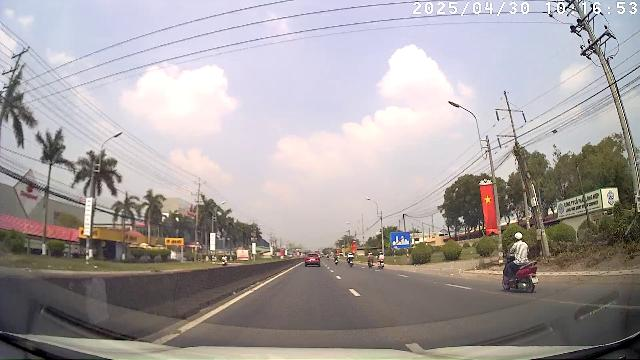421-ket-thuc-khu-dong-dan-cu: (391, 232, 410, 247)
